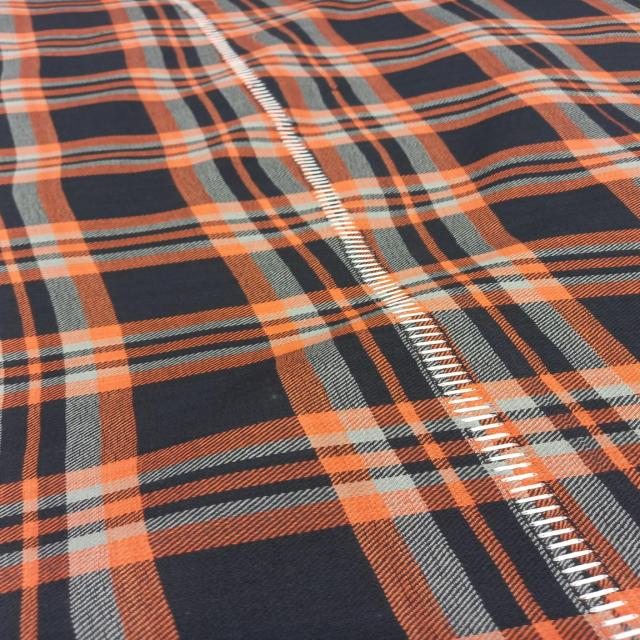gray stitch: (178, 1, 636, 638)
